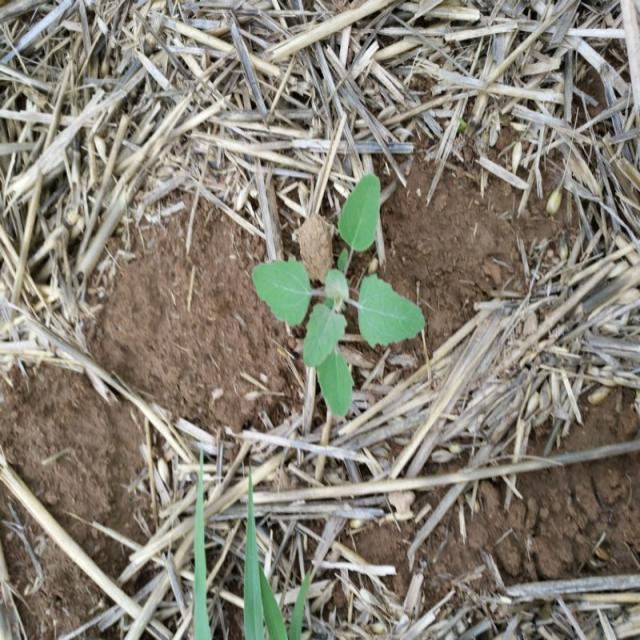goosefoots: (236, 172, 423, 401)
